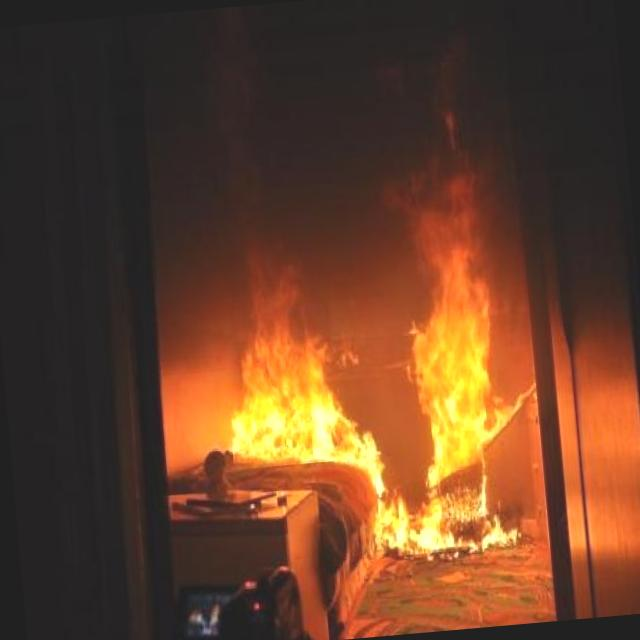fire: (142, 140, 560, 615)
